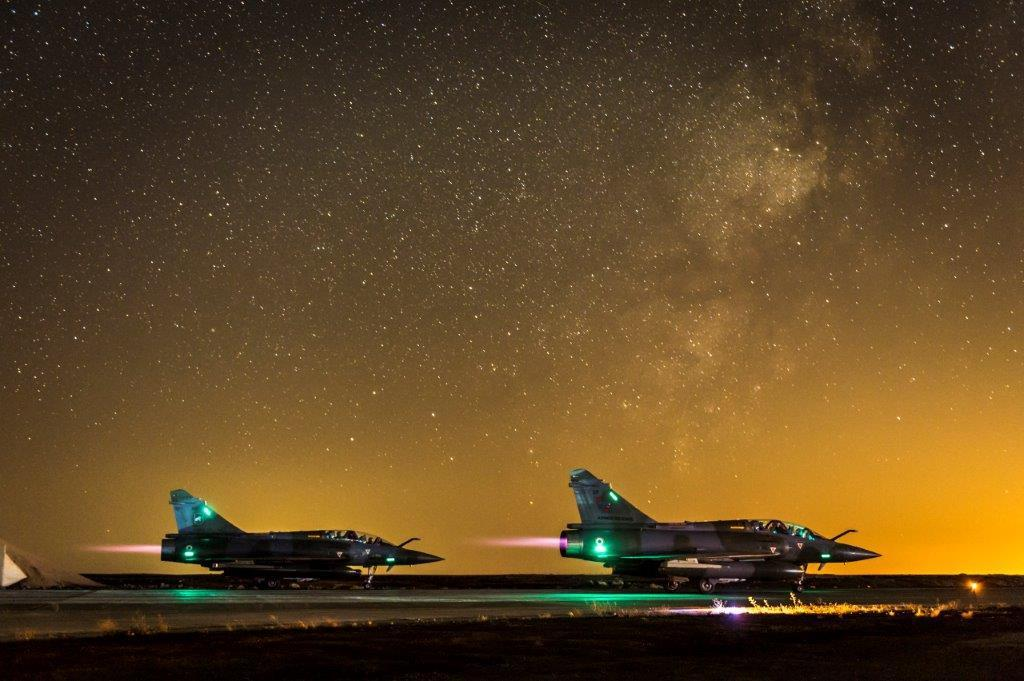Mirage2000: (559, 467, 884, 594), (160, 488, 446, 591)
